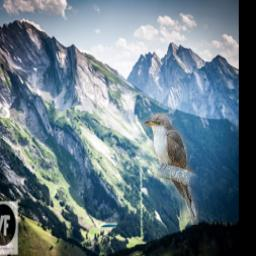Cuckoo: (144, 114, 198, 226)
